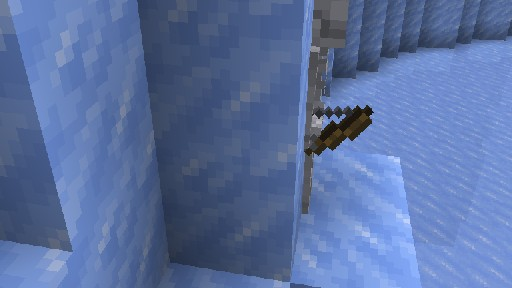skeleton: (236, 0, 373, 214)
